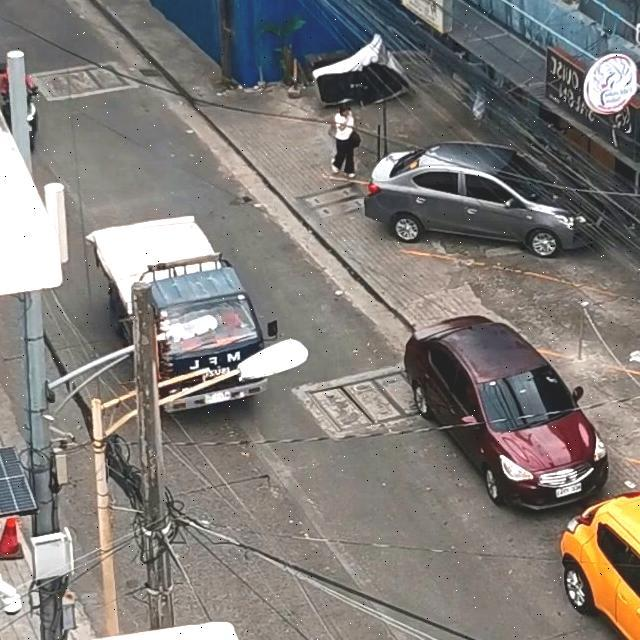Truck: (80, 196, 274, 426)
